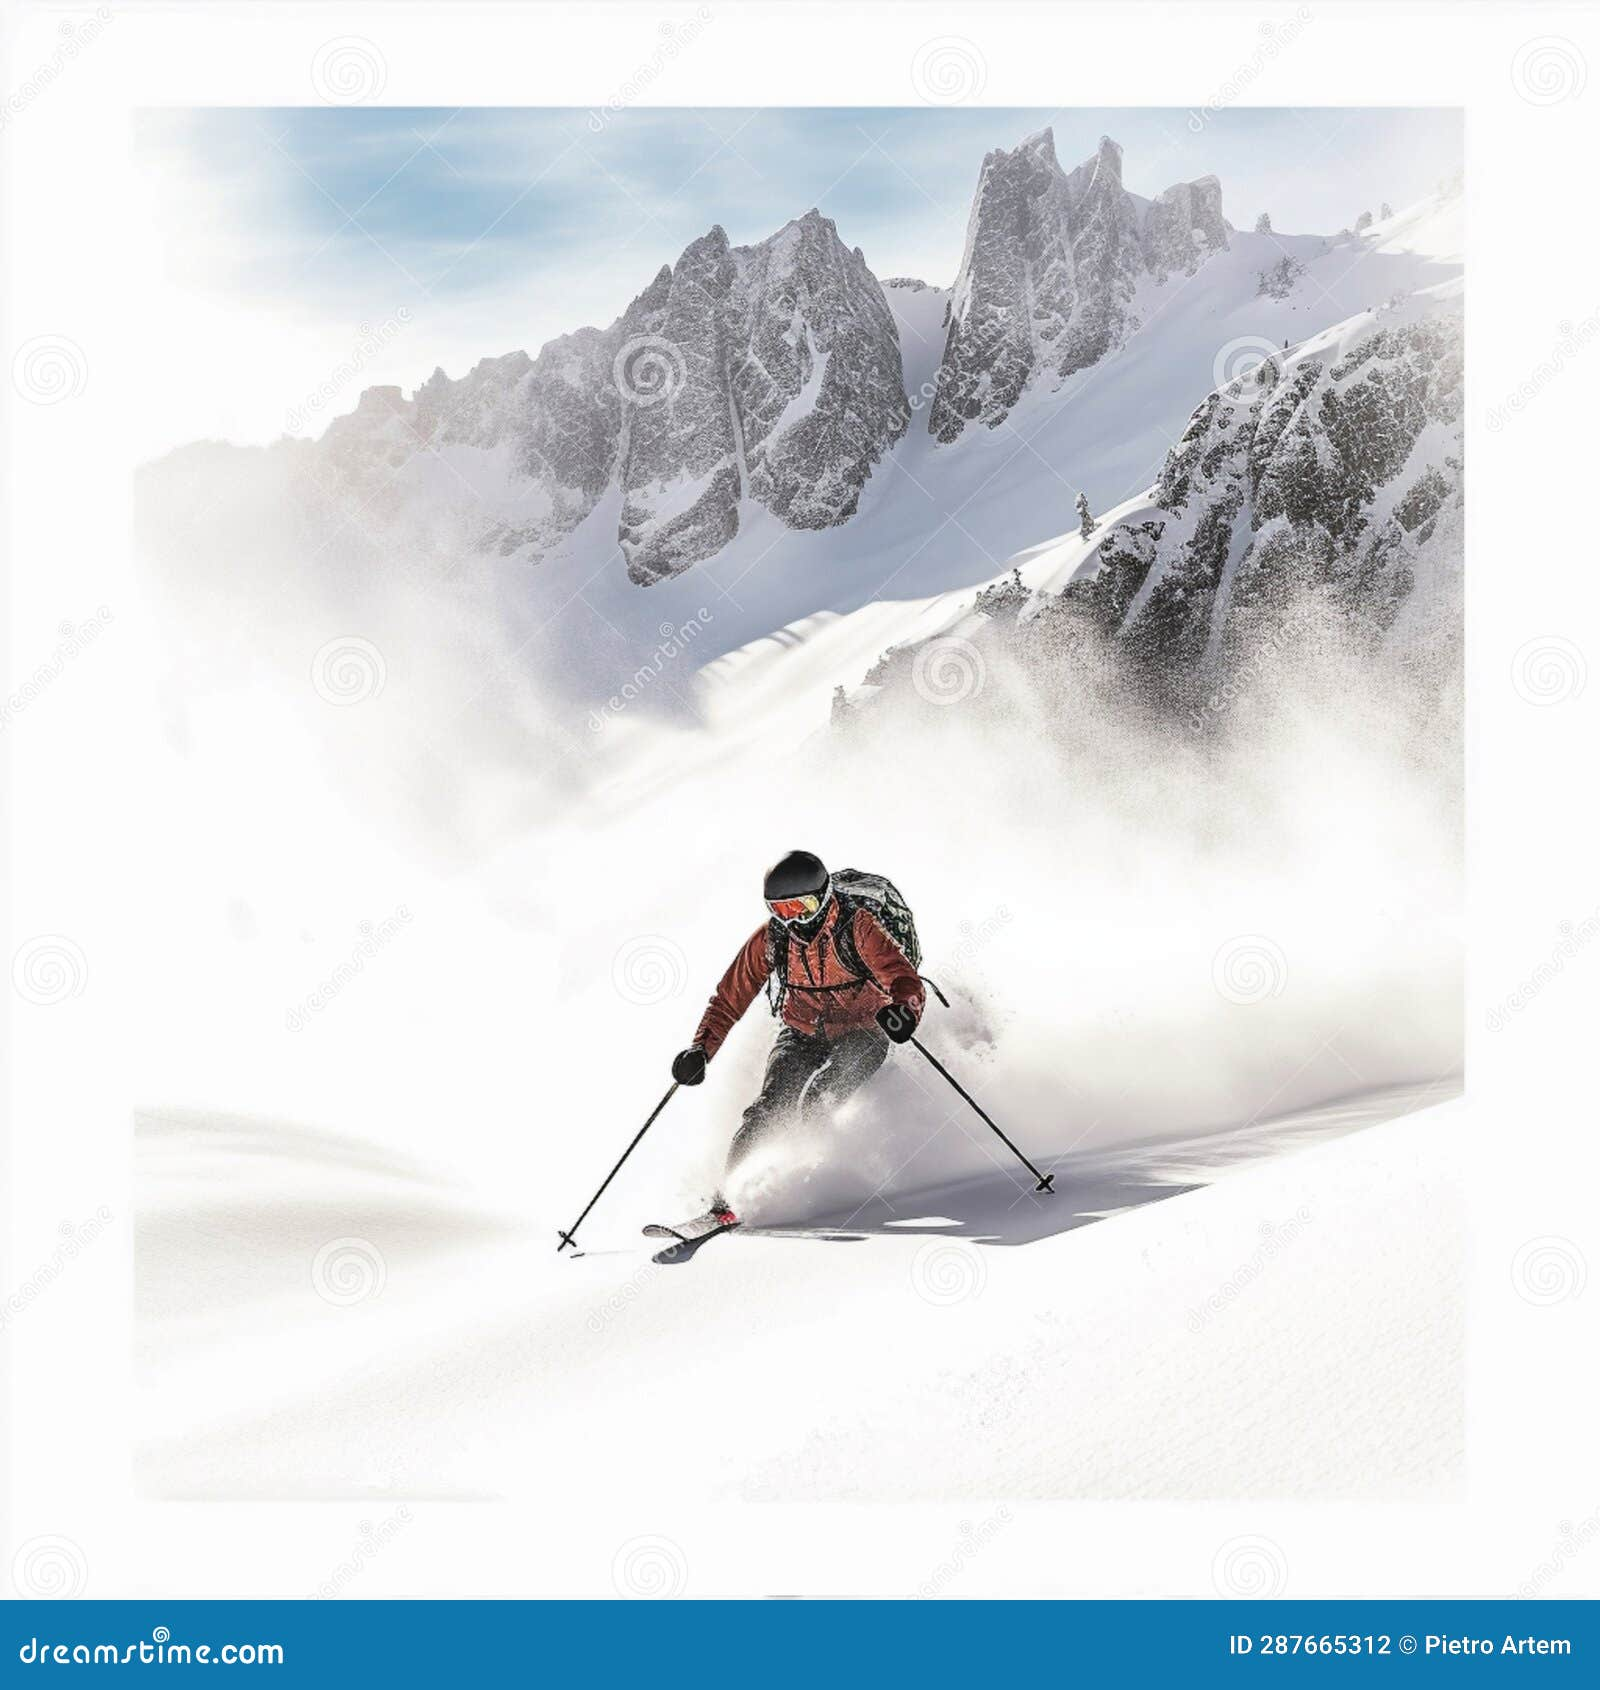skier: (547, 851, 1063, 1261)
